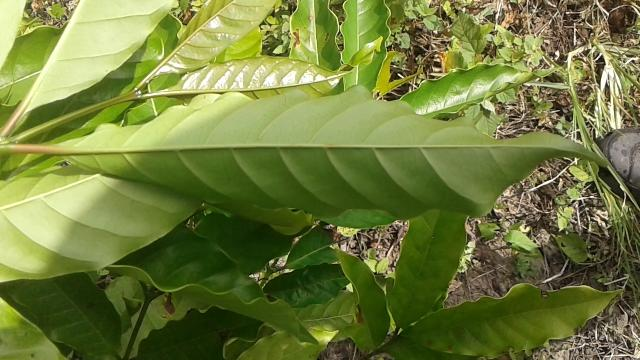healthy: (49, 87, 612, 222)
